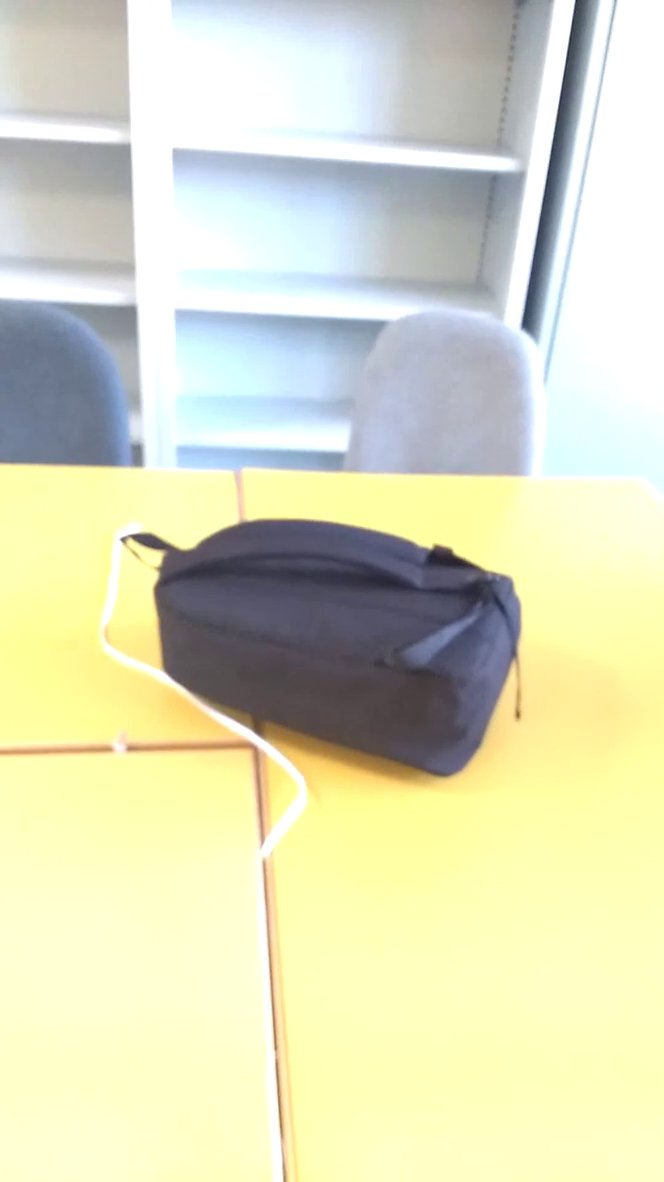bag: (114, 507, 530, 783)
chair: (329, 302, 591, 501), (1, 286, 155, 494)
